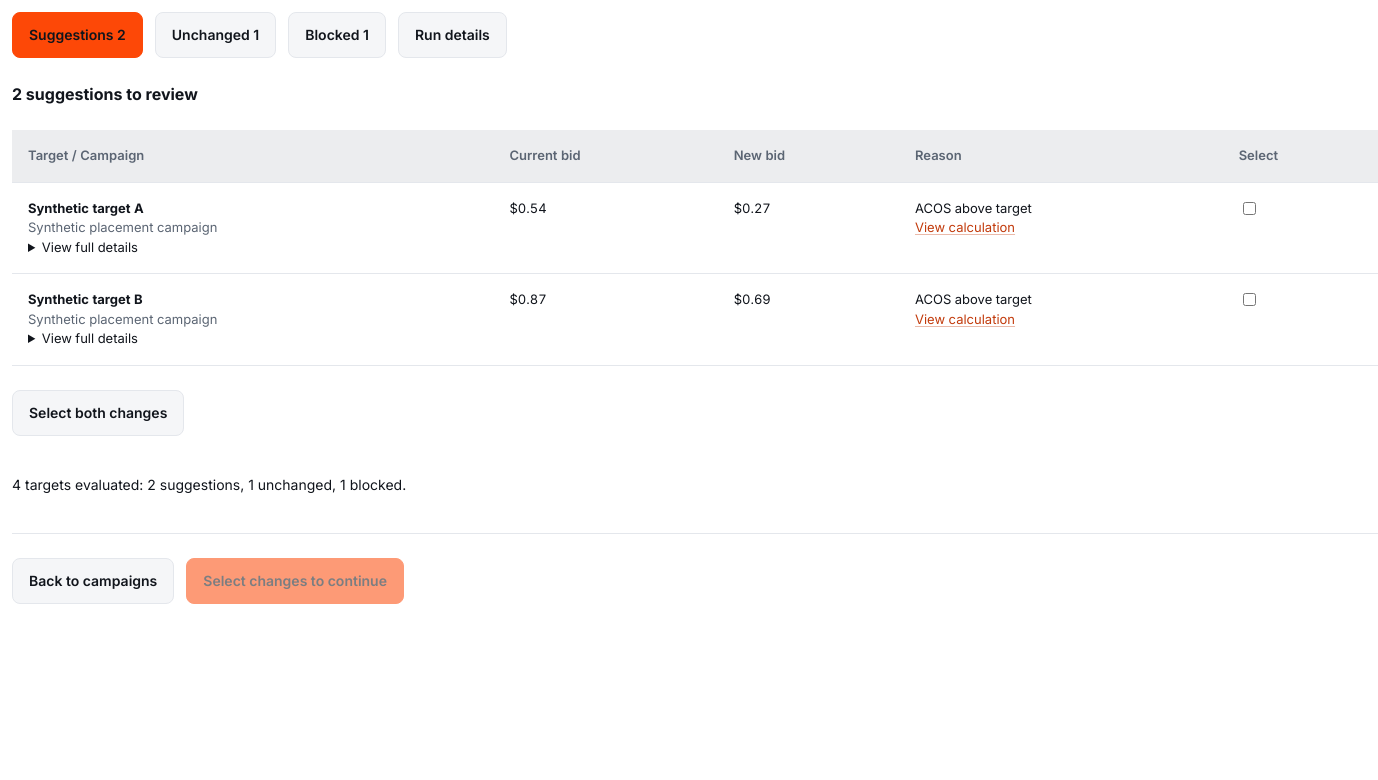
Test: review state rendering › renders the complete hold and immutable run details in separate tabs
Click the tab "Blocked 1" at (337, 35), box [288,12,386,58]
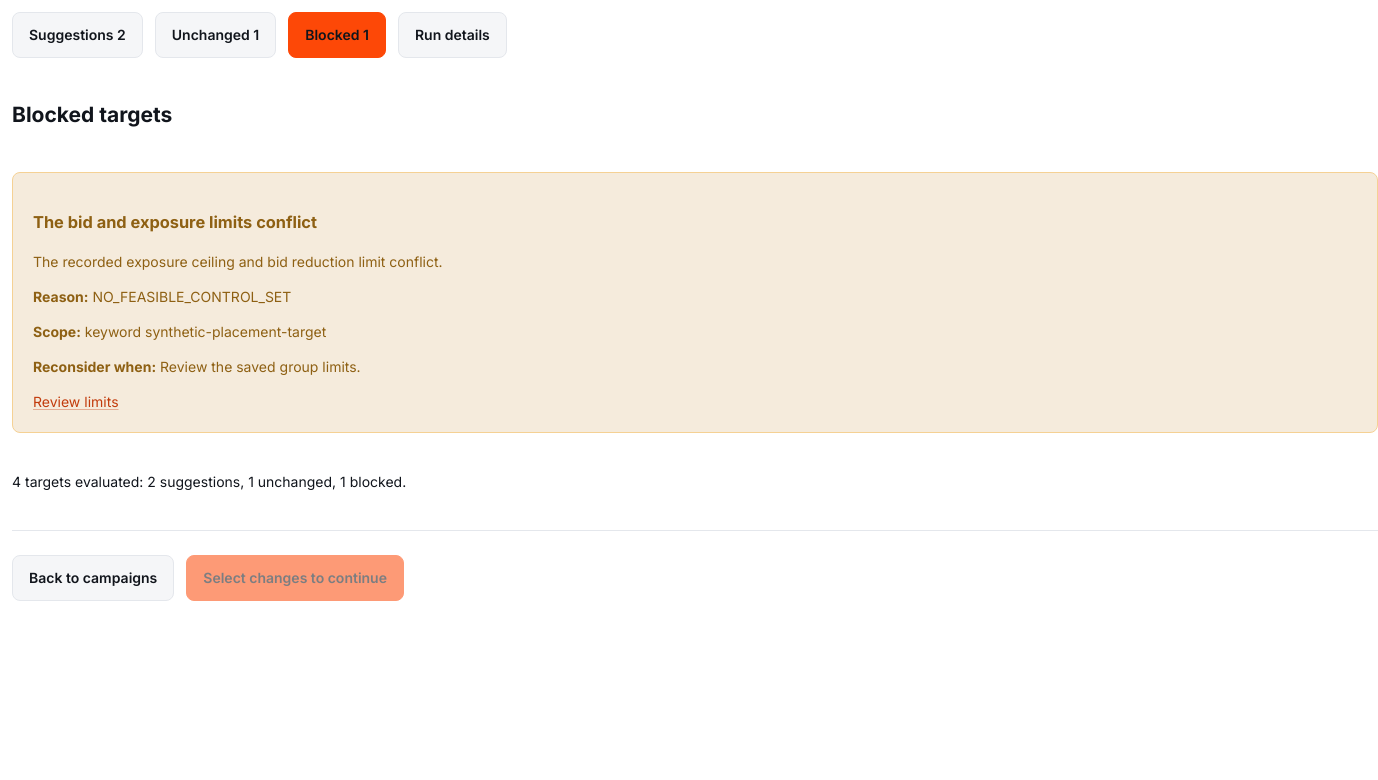
Expected: the text "The recorded exposure ceiling and bid reduction limit conflict." is shown, [33,253,443,270]
Expected: the text "Review the saved group limits." is shown, [160,358,361,375]
Expected: the text "NO_FEASIBLE_CONTROL_SET" is shown, [92,288,291,305]
Click the tab "Run details" at (452, 35), box [398,12,507,58]
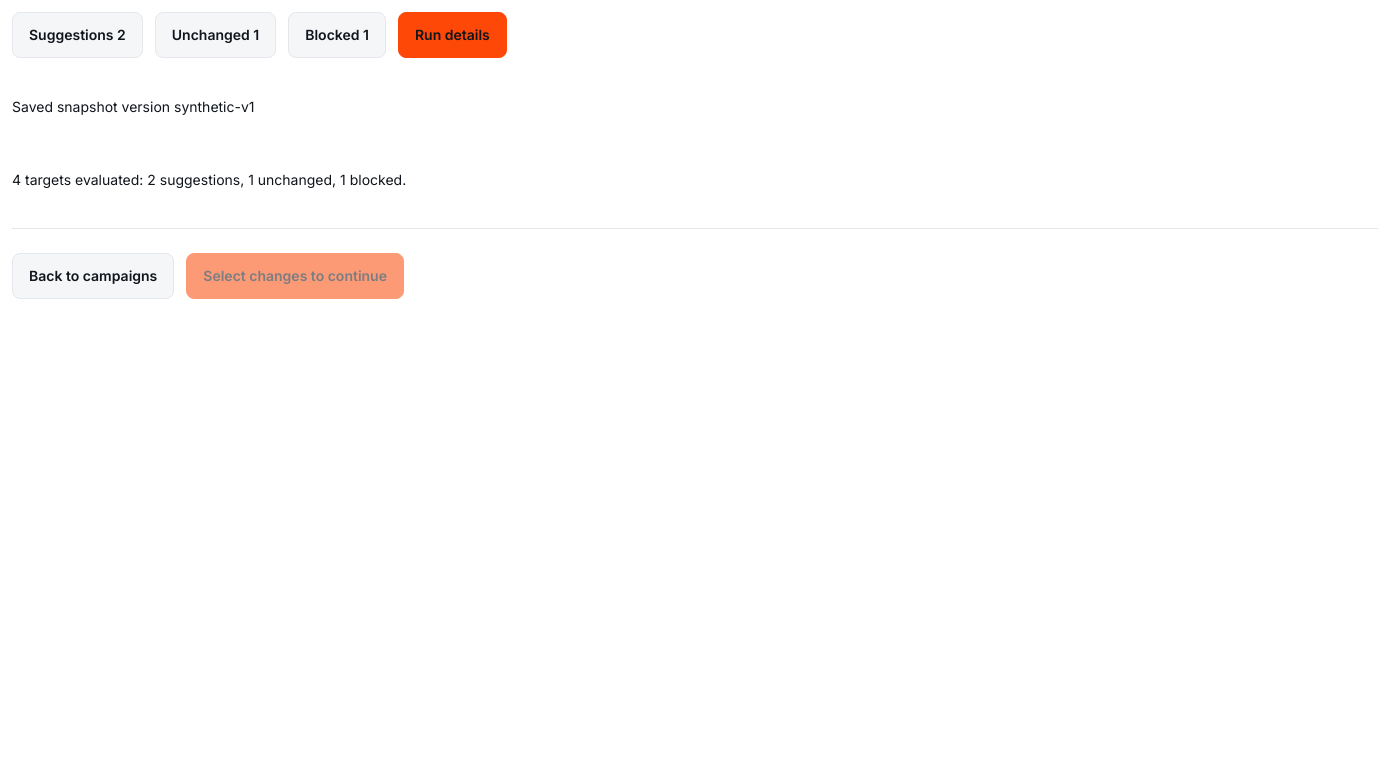
Expected: the text "Saved snapshot version synthetic-v1" is shown, [12,98,254,115]
